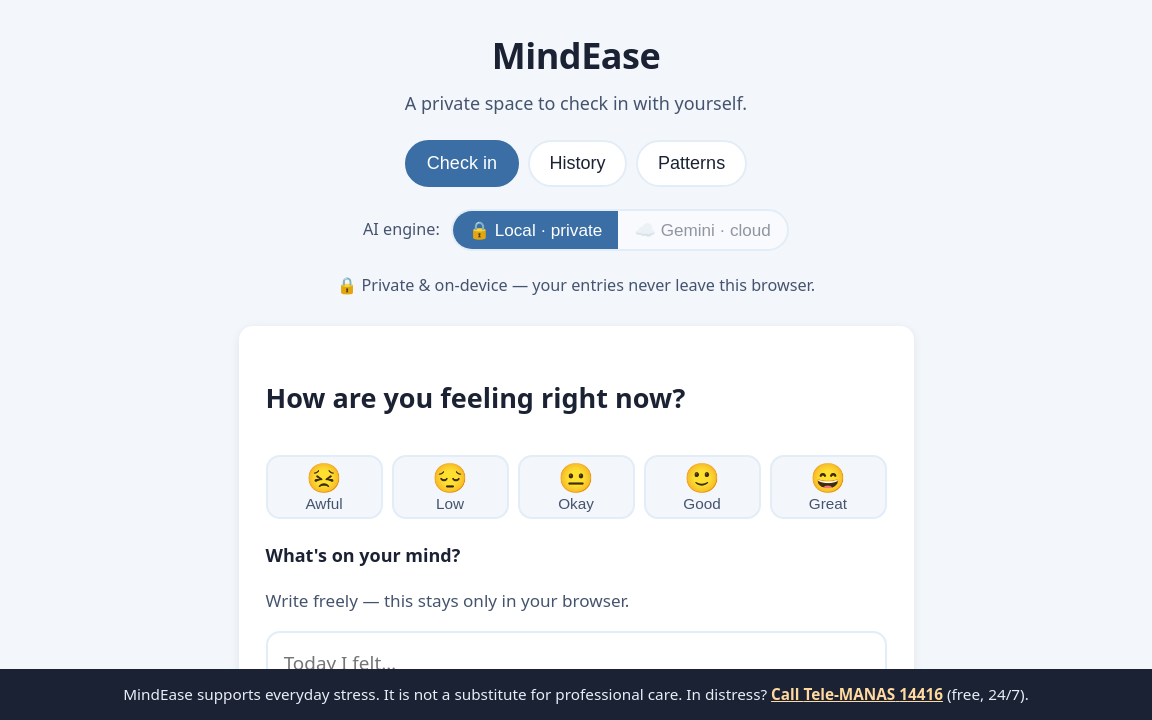
Scenario: App — safety-first check-in flow › surfaces a recoverable error and still keeps the saved entry when the model is unreachable
This screenshot has width=1152, height=720.
Click the button "😐 Okay". click: (576, 487)
box: [518,455,634,519]
(page scrolled)
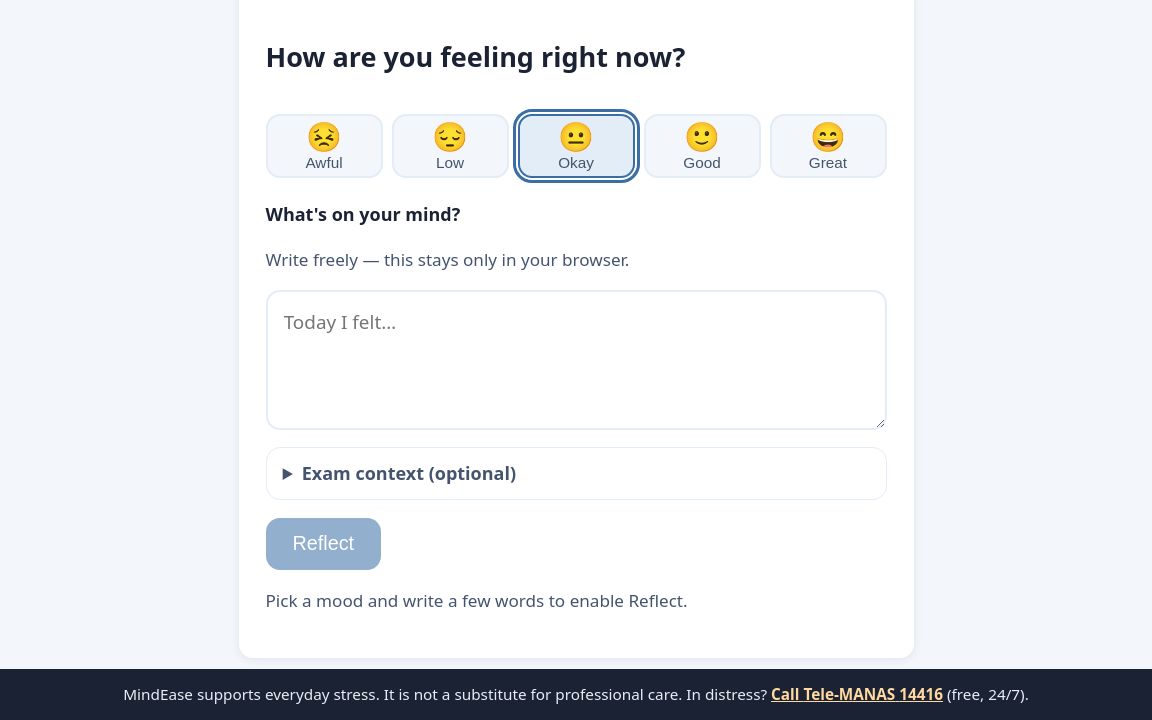
Type "just a normal day" into the text box labelled "What's on your mind?". click: (576, 360)
box: [266,290,886,430]
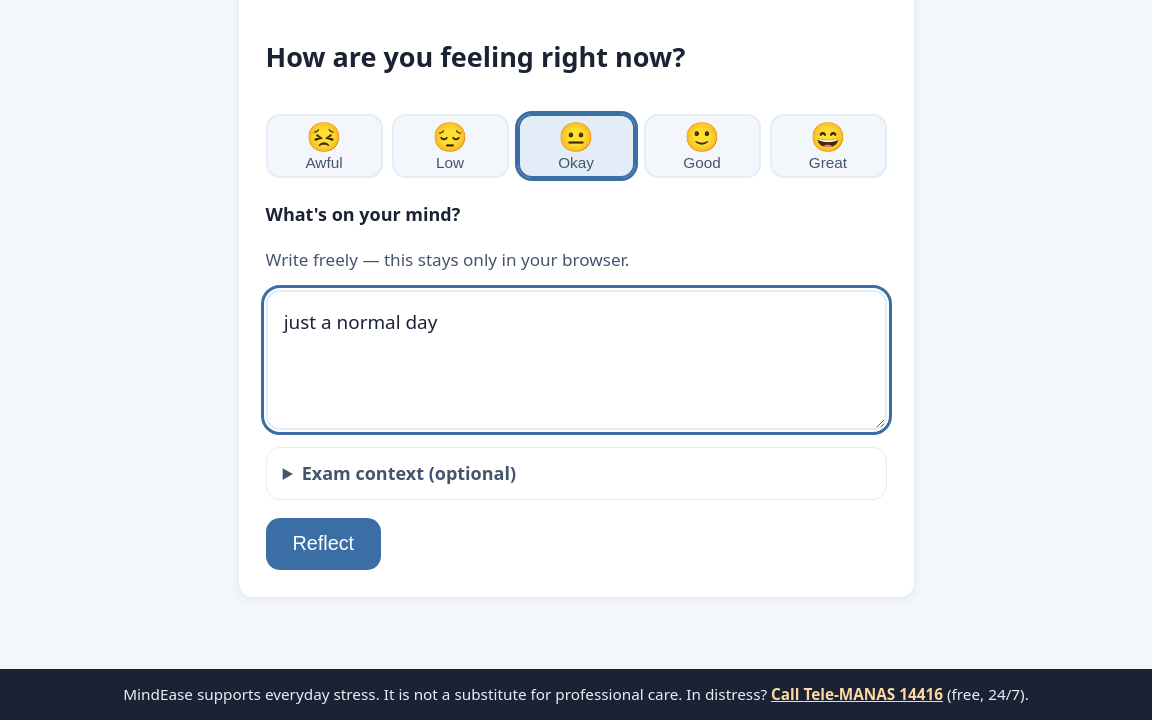
Click the button "Reflect". click: (323, 544)
box: [266,518,381,570]
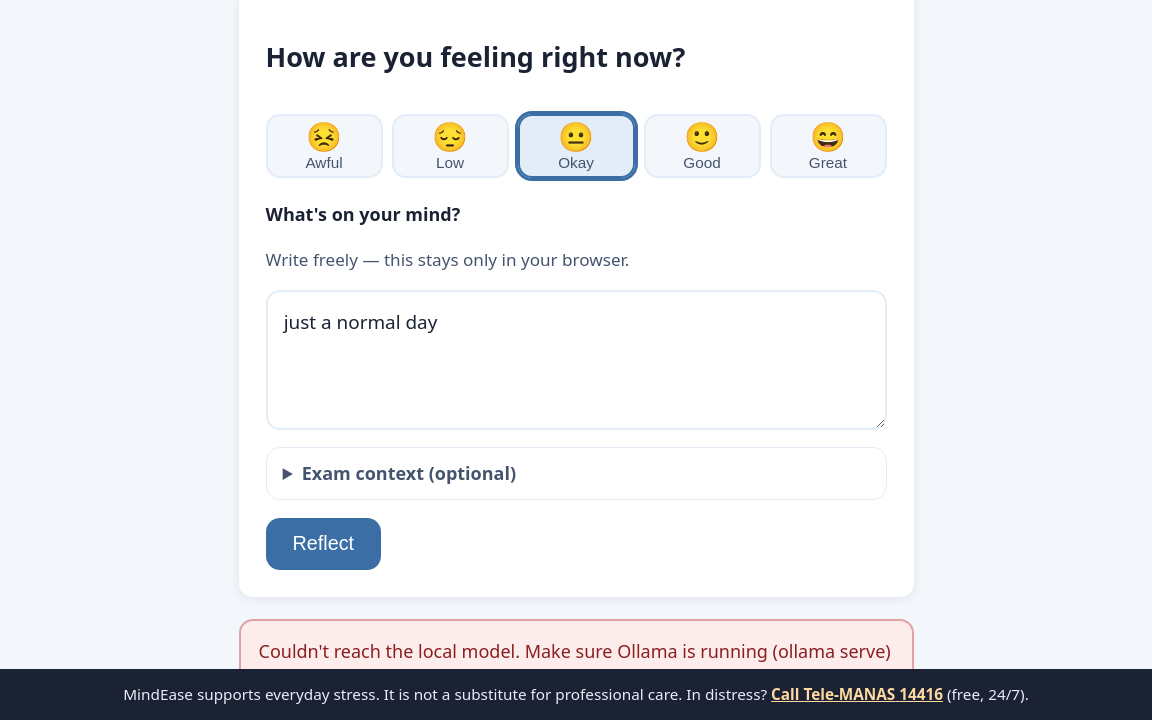
Check: the message shows "Ollama", box [258,639,891,692]
